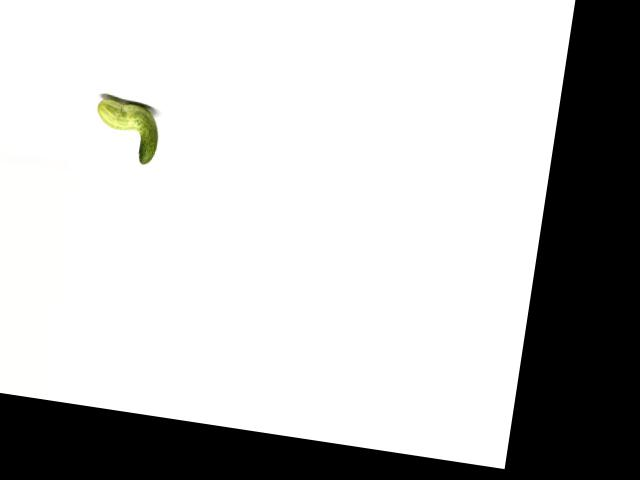cucumber: (90, 96, 163, 165)
